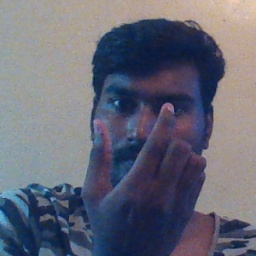U: (82, 98, 209, 248)
